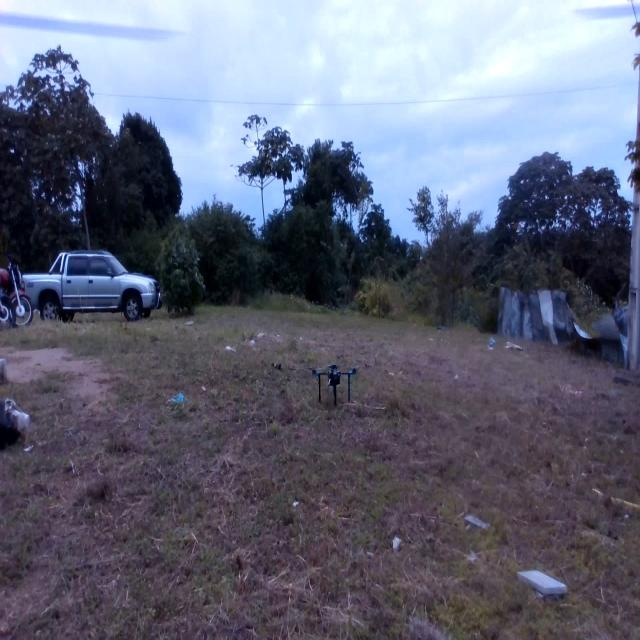-uav-: (304, 339, 363, 422)
